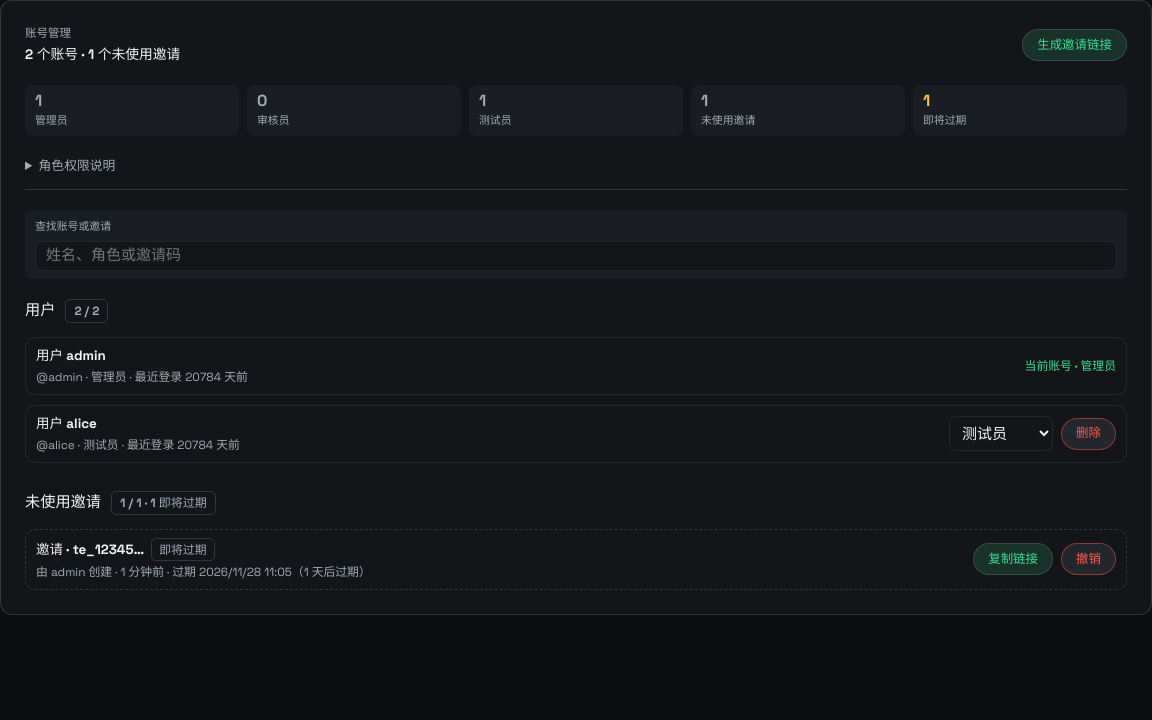
AccountManagement › keeps authoritative invite and clipboard outcomes visible when the follow-up refresh fails
What coordinates should you click on to do the following:
click the button "生成邀请链接"
I would click on:
 (1075, 45)
Its box is [1022, 29, 1127, 61].
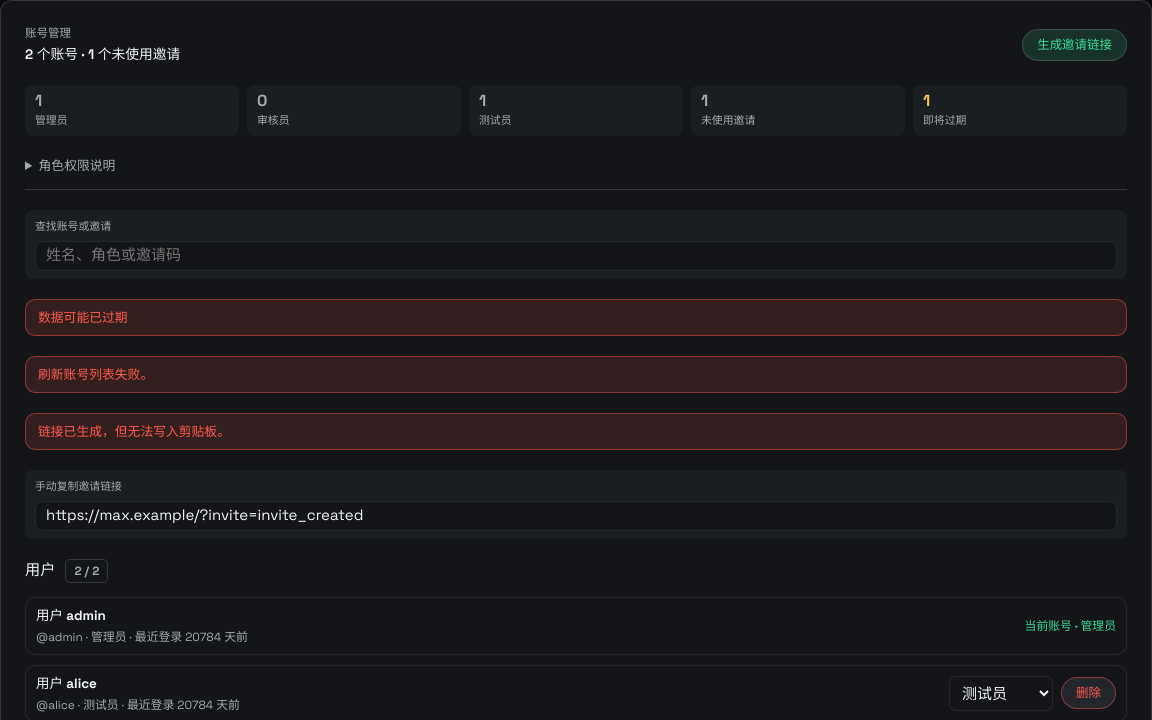
Check: the text "链接已生成，但无法写入剪贴板。" is shown, box [25, 413, 1127, 450]
Check: the text "刷新账号列表失败。" is shown, box [25, 356, 1127, 393]
Check: the text "数据可能已过期" is shown, box [25, 299, 1127, 336]
